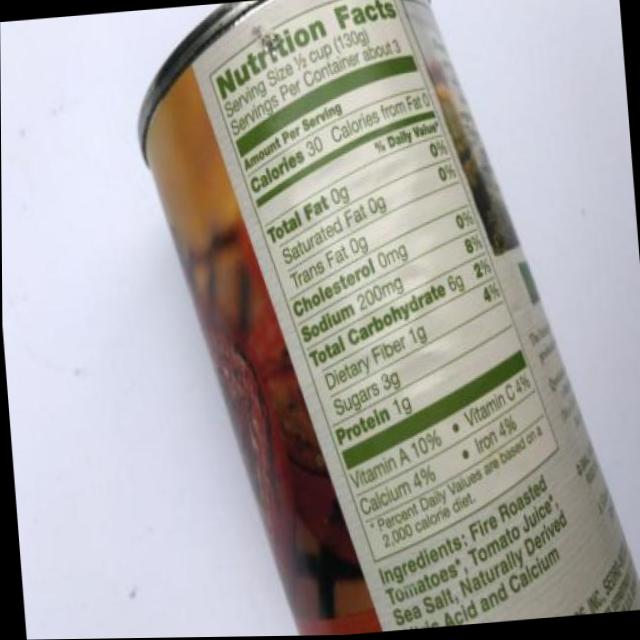metal: (123, 0, 640, 638)
